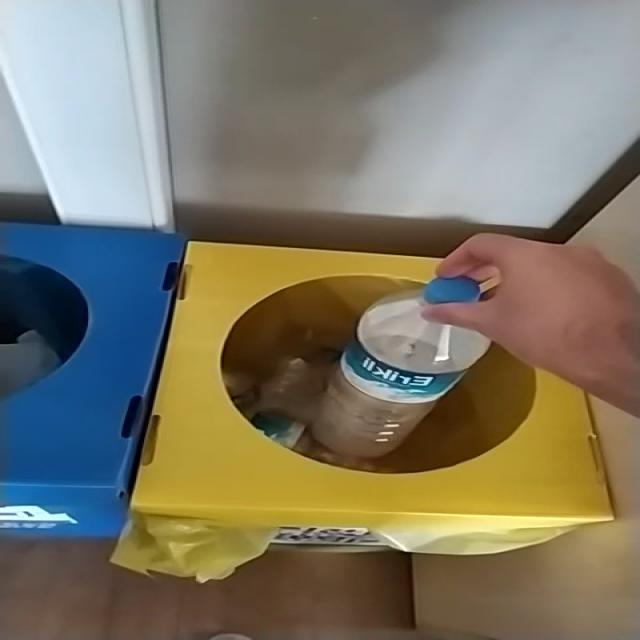Plastic: (424, 276, 481, 304)
